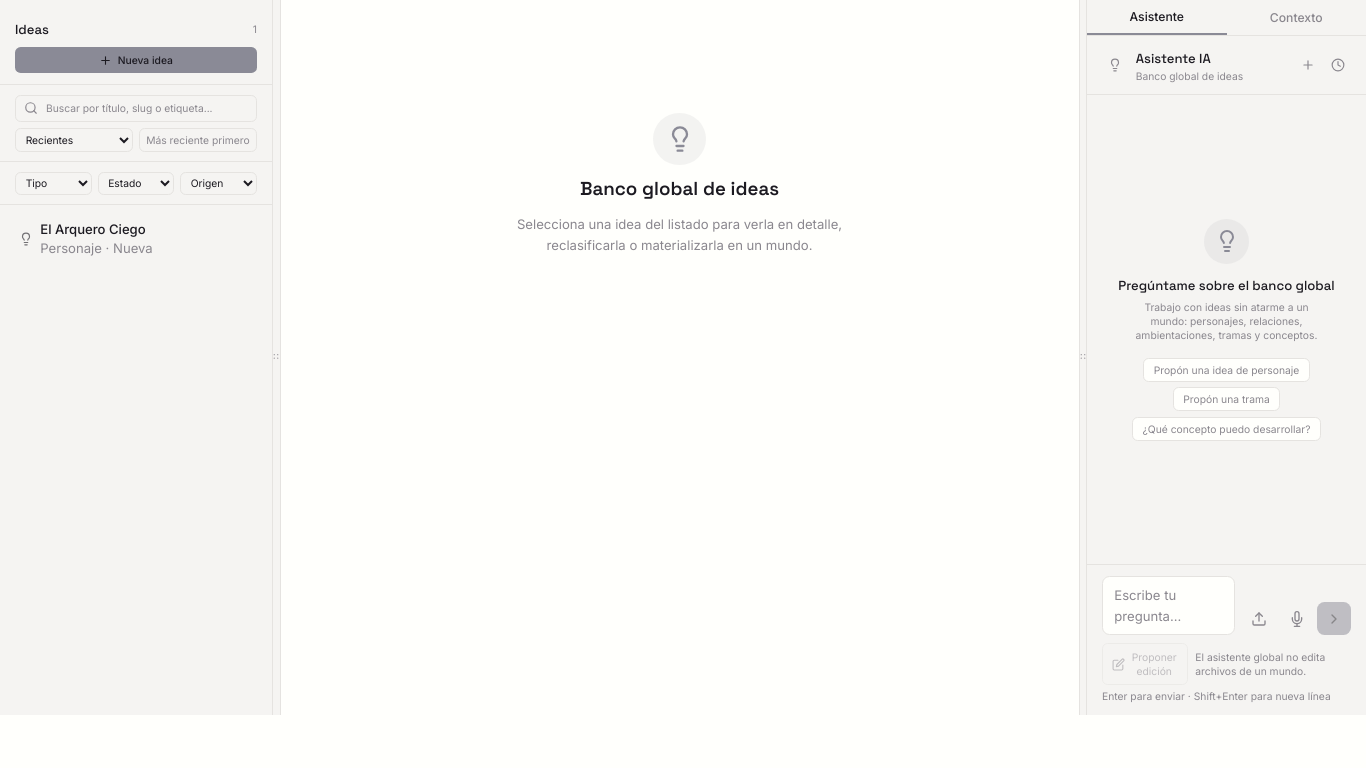
Test: IdeasWorkshop › suggests lore for a non-character idea type
The image size is (1366, 768).
Click the button "El Arquero Ciego Personaje · Nueva".
click(136, 239)  # box top-left (8, 213), bottom-right (264, 265)
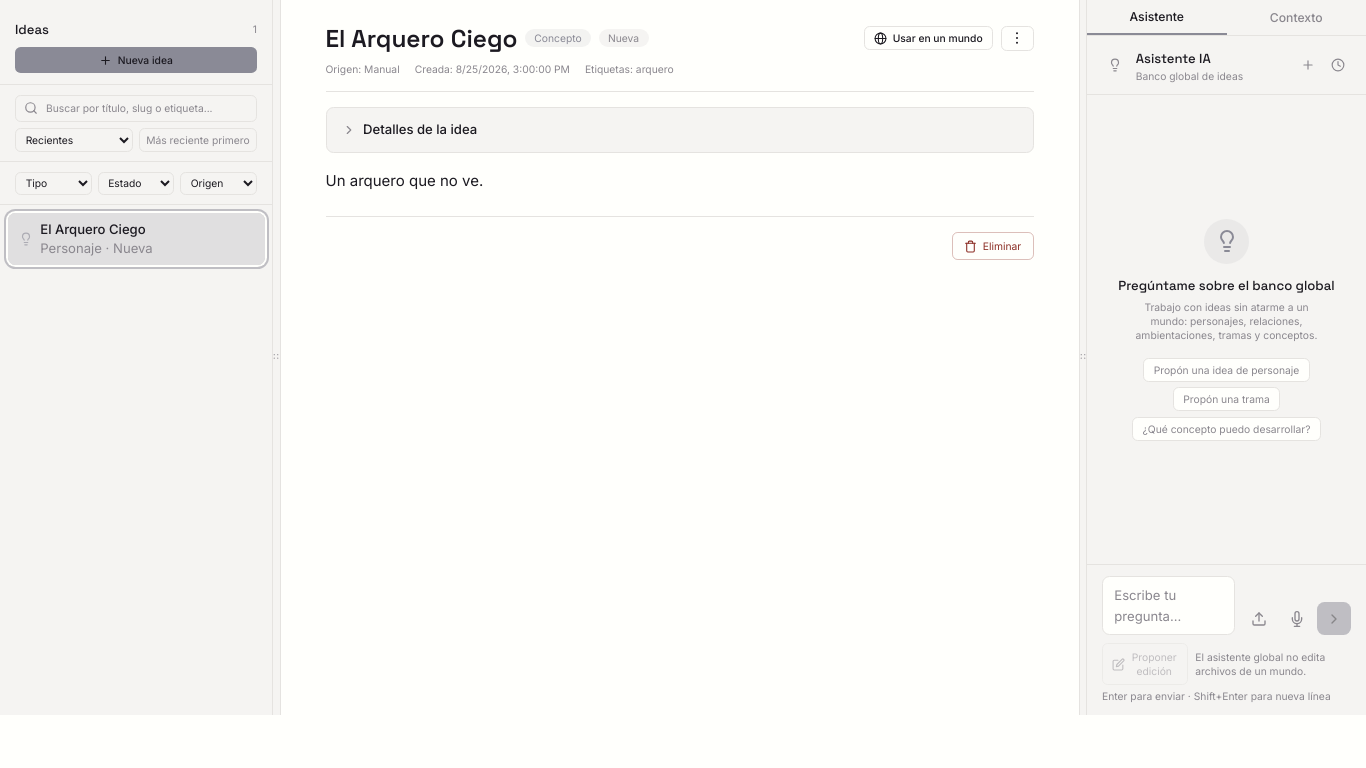
Click the button "Usar en un mundo".
click(928, 38)  # box top-left (864, 26), bottom-right (993, 50)
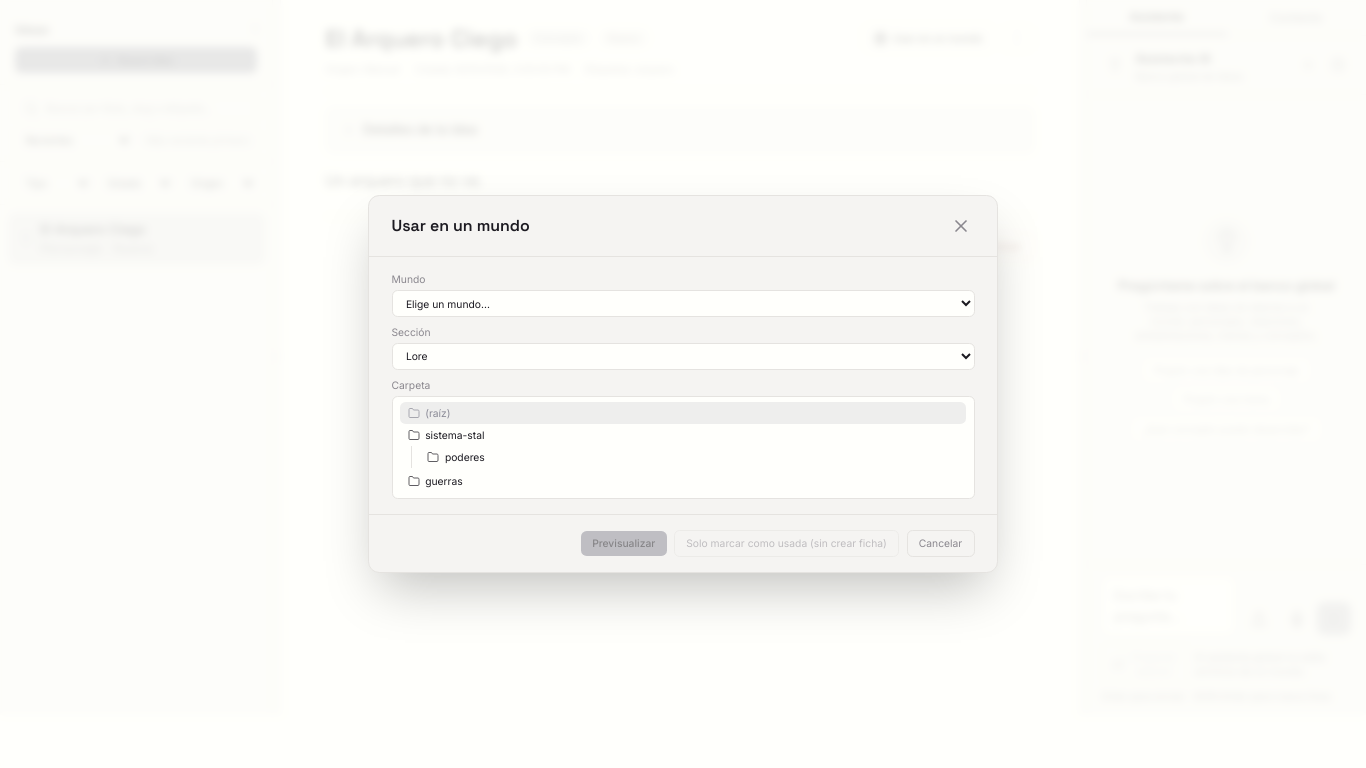
Expected: the dropdown labelled "Sección" shows "Lore", top-left (392, 343), bottom-right (974, 370)
